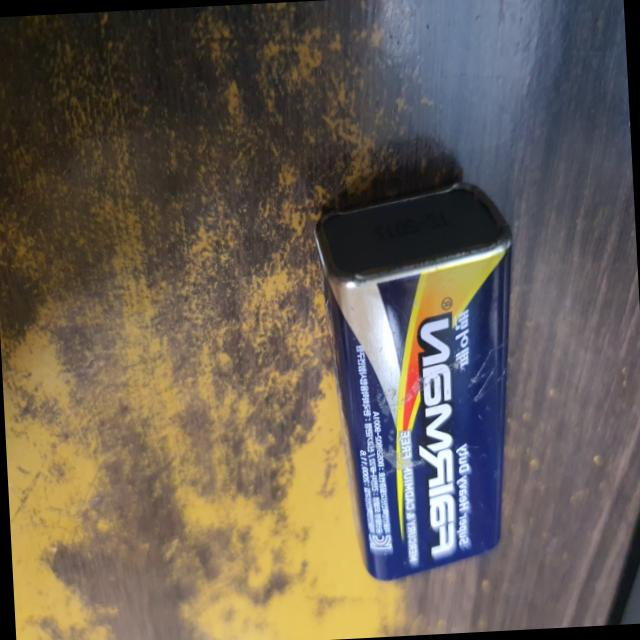battery-etc-etc: (308, 174, 540, 606)
